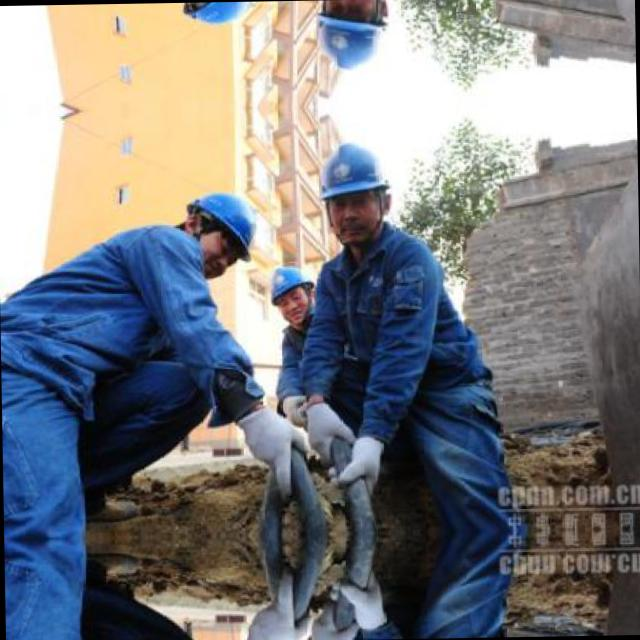helmet: (307, 128, 398, 252), (304, 0, 396, 83), (182, 189, 270, 269), (266, 258, 315, 327), (179, 1, 267, 27)
